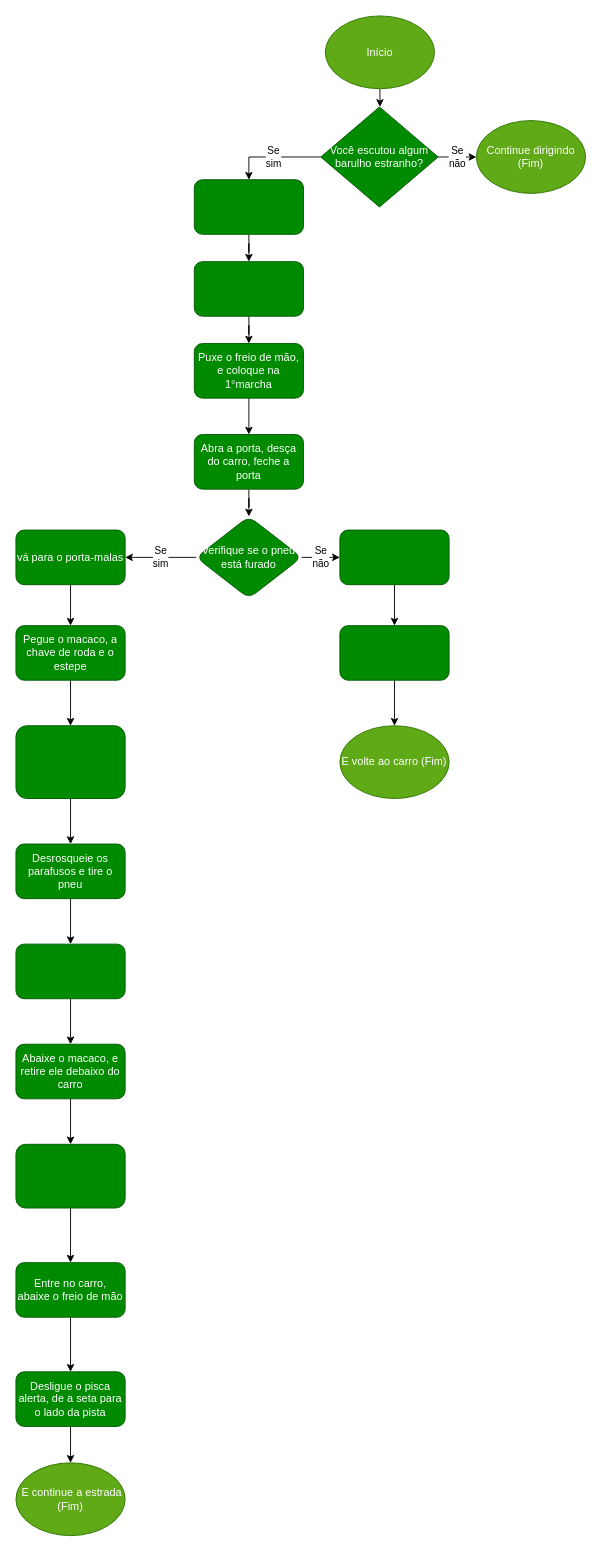
This 602x1552 diagram has some shape labels left out. Here are the shapes that lost their labels. From the top down, the centre of each, then its label:
At point 248,206: "Acenda o pisca alerta".
At point 248,288: "Pare em um local seguro".
At point 394,557: "Volte ao carro".
At point 394,652: "Abaixe o freio de mão, desligue o pisca alerta".
At point 70,762: "Coloque o macaco debaixo do carro ao lado da roda para subir o carro".
At point 70,971: "Coloque o estepe, e aperte os parafusos".
At point 70,1175: "Guarde o macaco, a chave de roda e o pneu furado no porta-malas".
